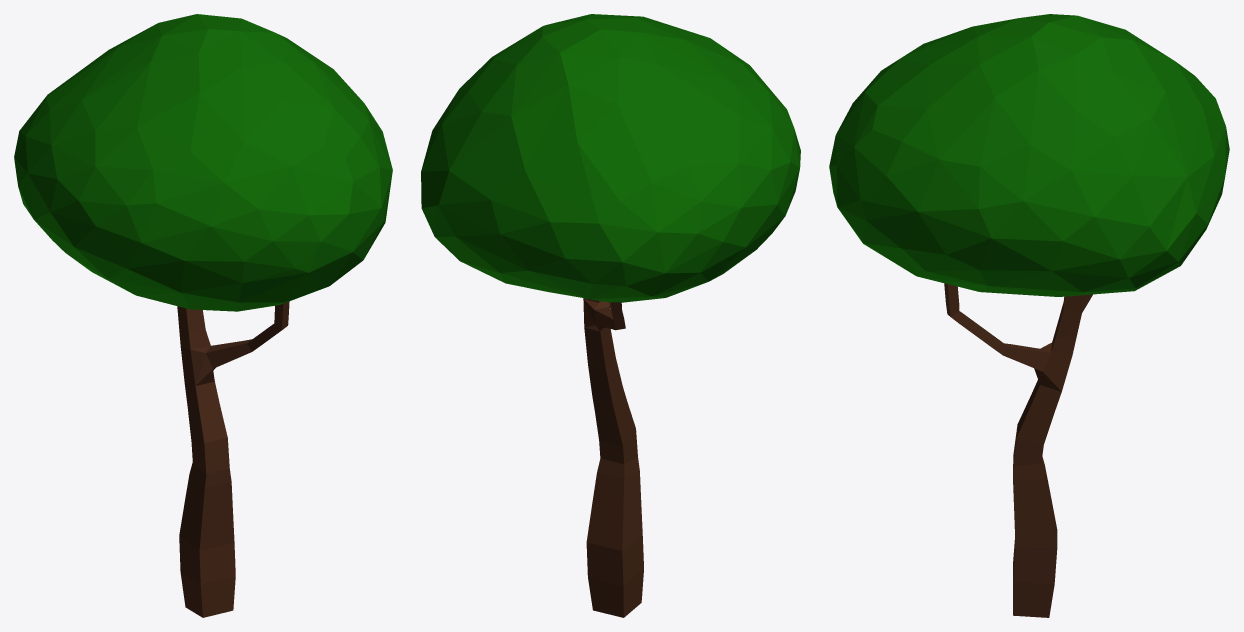
File: LowPolyGreenTree (1).fbx
The picture shows the model from 3 angles, left to right: view 1: azimuth 30°, elevation 25°; view 2: azimuth 150°, elevation 25°; view 3: azimuth 270°, elevation 25°; orthographic projection. The views are drawn at different scales.
Visible parts, largest first — view 1: Plane; view 2: Plane; view 3: Plane.
Part boxes in pixels (left/top/right/bottom): Plane: left=14, top=14, right=392, bottom=617; Plane: left=421, top=14, right=800, bottom=617; Plane: left=829, top=14, right=1229, bottom=617.
Size of the model in its own units: 262 by 453 by 278.
Materials: 1 (1 with a texture image).
